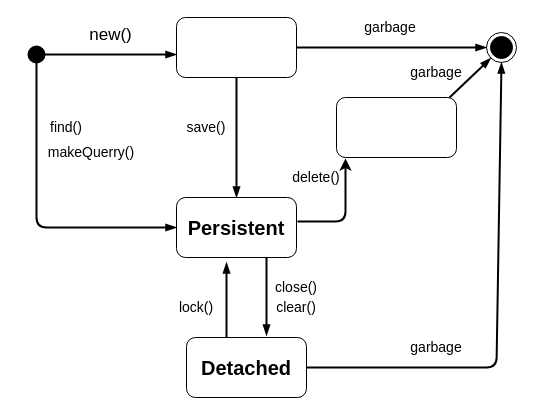
Image size: 534x415. Some labels were removed from this diagram. Here are the shapes that lost their labels. From the top down, the box of each, then its label:
(176, 16, 296, 78): Transient
(336, 96, 456, 158): Removed
